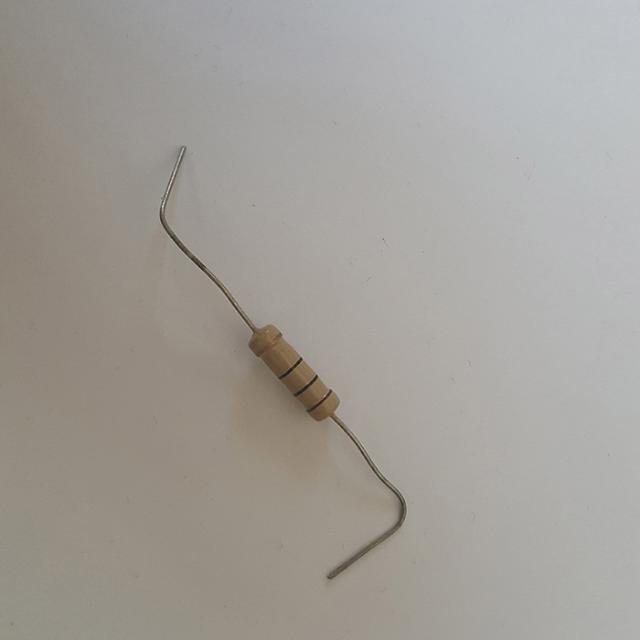black: (293, 375, 318, 397), (279, 357, 303, 379)
brown: (307, 389, 332, 411)
gold: (256, 331, 281, 355)
resistor: (230, 311, 352, 438)
